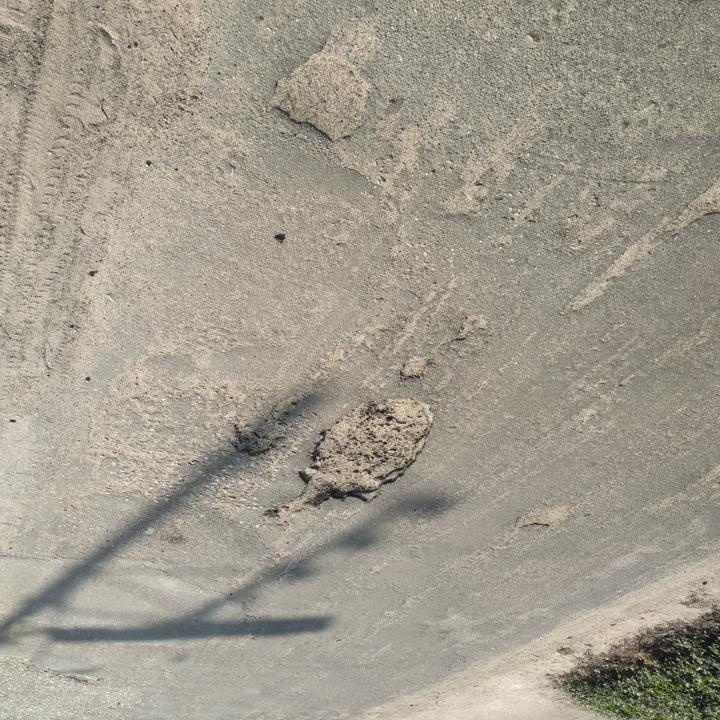pothole: (268, 393, 441, 522), (264, 24, 383, 147), (231, 392, 305, 460), (670, 176, 719, 239), (512, 500, 572, 533)
